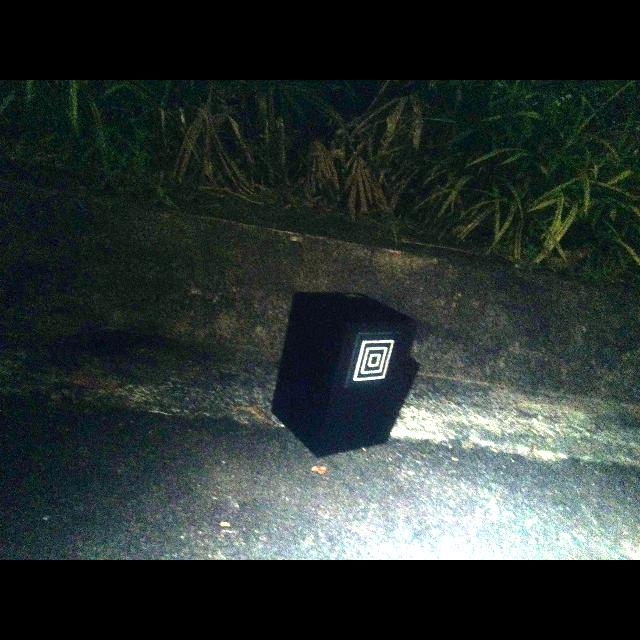BULLSEYE: (353, 340, 394, 381)
